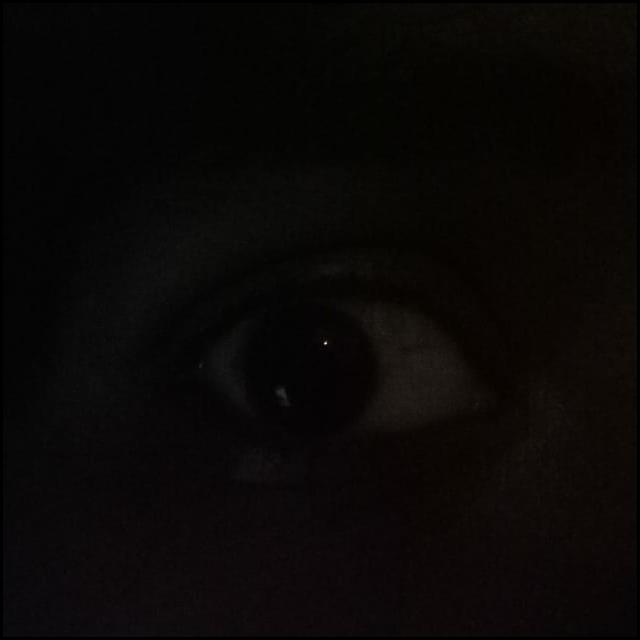eye: (195, 288, 492, 441)
iris: (238, 306, 374, 433)
